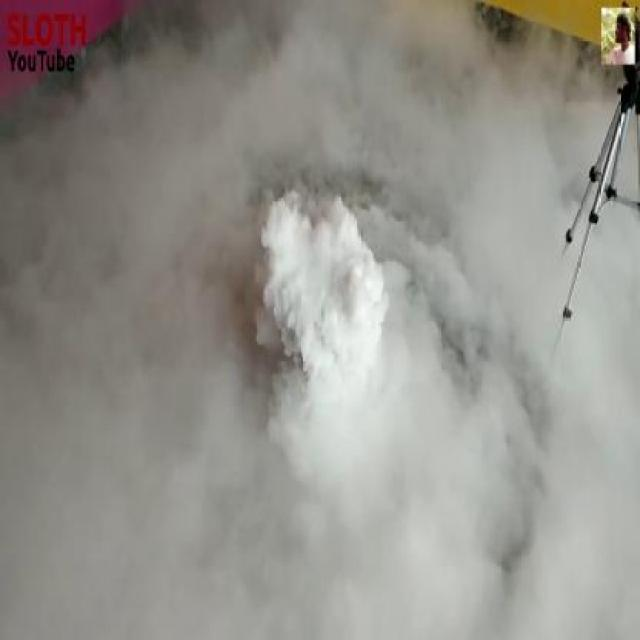smoke: (142, 109, 546, 586)
